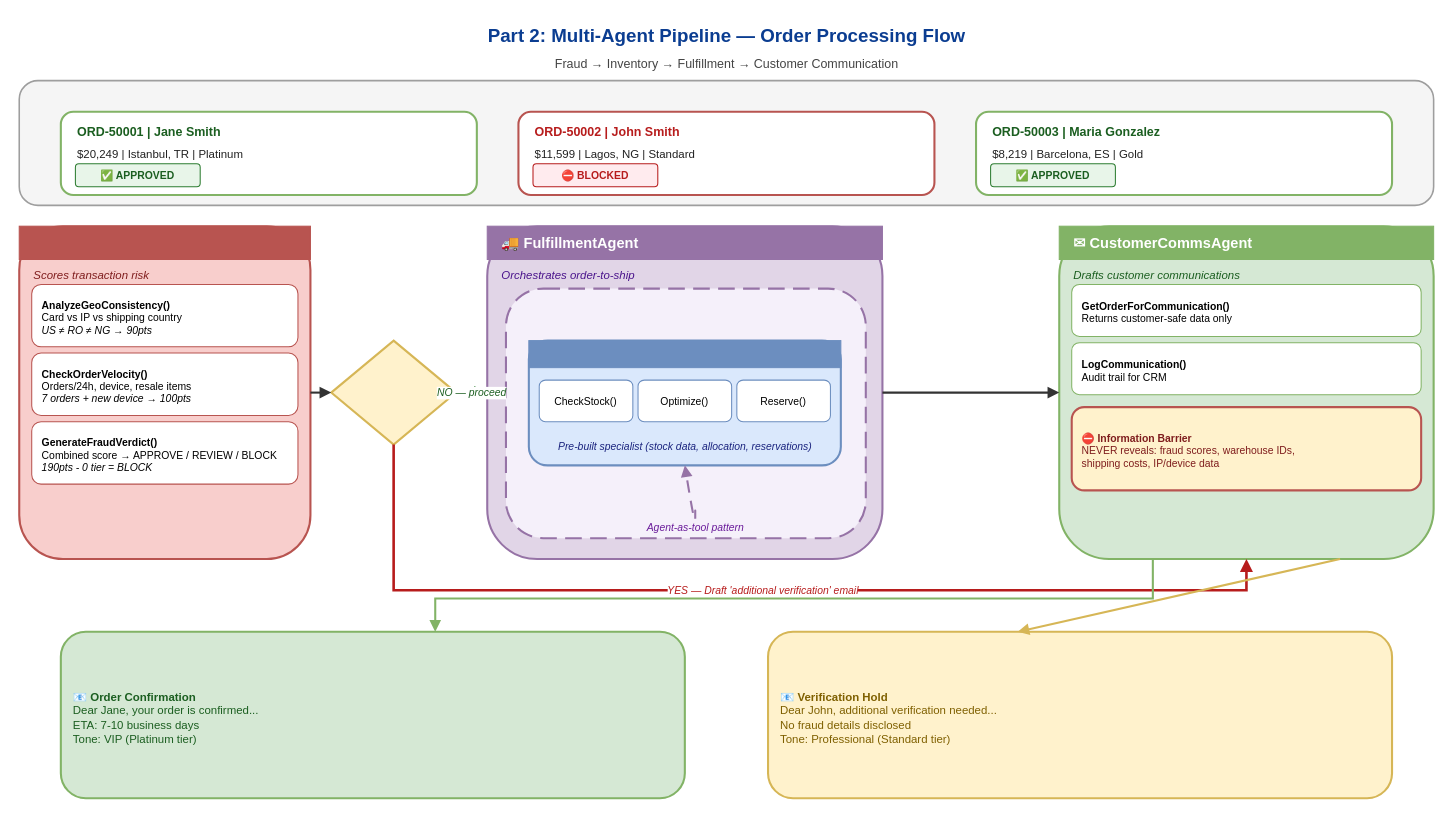
The diagram is 1452 pixels wide and 816 high, and some of its shapes have lost their labels. The shapes that lost their labels are listed below. From the top down, each one's box as (x1, y1, x2, y2) in pixels, then its label:
(18, 79, 1434, 206): Incoming Orders
(18, 225, 310, 259): 🛡 FraudDetectionAgent
(528, 340, 841, 368): 📦 InventoryAgent
(330, 339, 457, 445): Blocked?
(504, 287, 866, 539): inventoryAgent.AsAIFunction() ↳ Entire InventoryAgent becomes one tool
